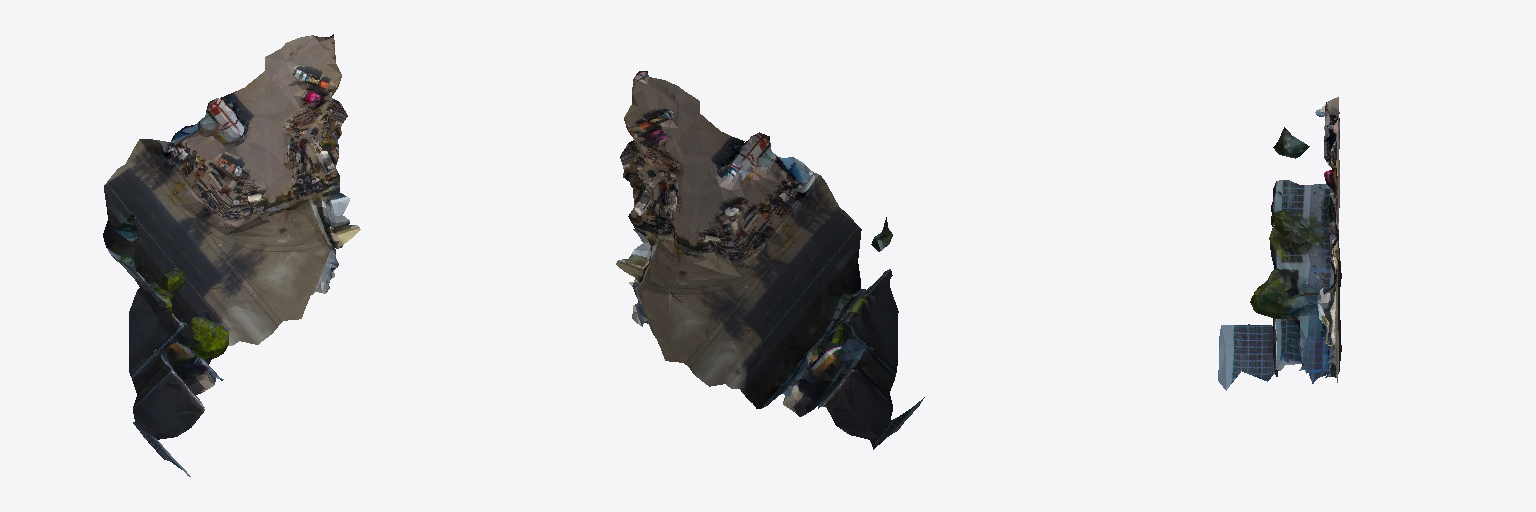
The picture shows the model from 3 angles: view 1: azimuth 30°, elevation 25°; view 2: azimuth 150°, elevation 25°; view 3: azimuth 270°, elevation 25°; orthographic projection.
Size of the model in its own units: 72.23 by 96 by 29.99.
Materials: 1 (1 with a texture image).